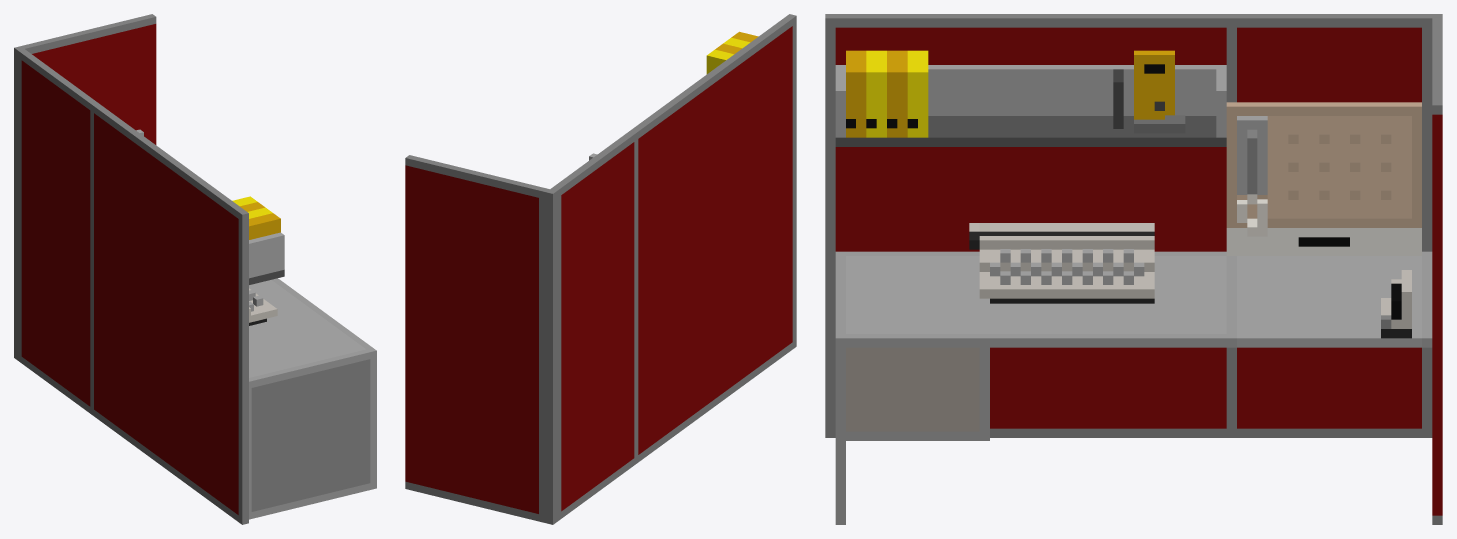
File: WorkCubicle1.obj
The picture shows the model from 3 angles, left to right: view 1: azimuth 30°, elevation 25°; view 2: azimuth 150°, elevation 25°; view 3: azimuth 270°, elevation 25°; orthographic projection. The views are drawn at different scales.
Size of the model in its own units: 2.1 by 4.5 by 6.
1 material, 1 textured.
